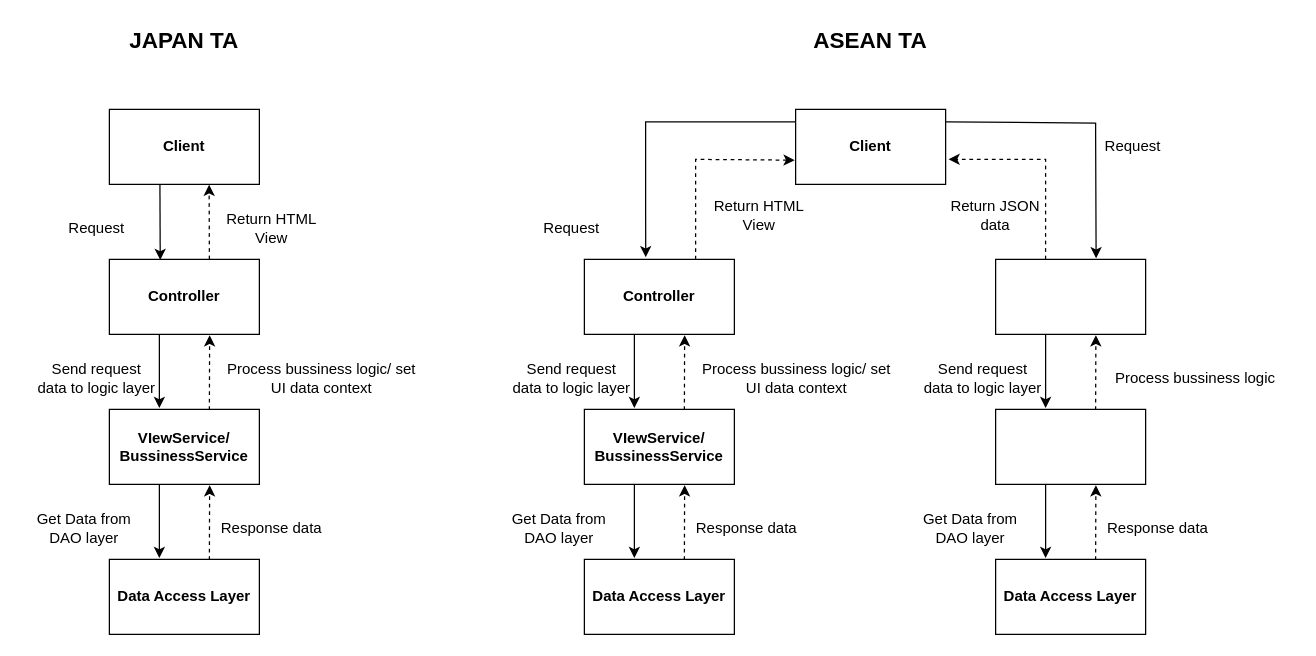
This 1316x656 diagram has some shape labels left out. The shapes that lost their labels are listed below. From the top down, each one's centre as x and y in pixels, then its label:
the point at 1070,296: V2 RestController
the point at 1070,446: BussinessService
